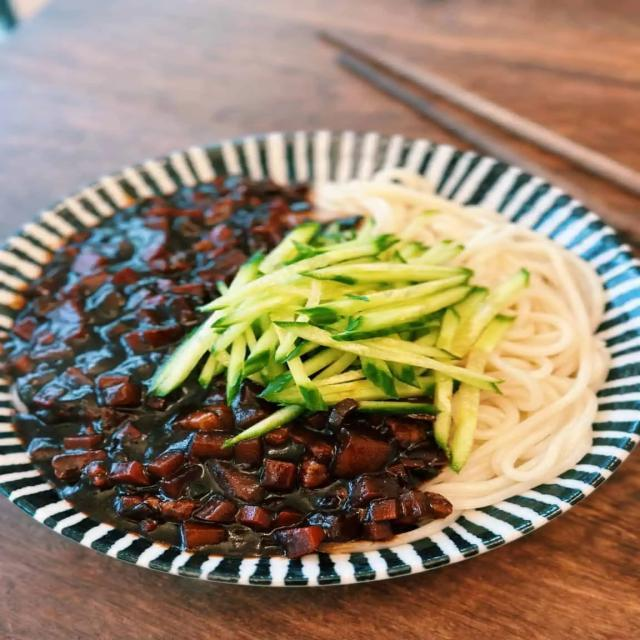cac loai rau cu: (149, 225, 529, 469)
mi jajangmyeon: (447, 317, 593, 506), (330, 175, 570, 269), (498, 263, 580, 453)
mi tuong den Jajangmyeon: (0, 171, 631, 555)
sot tuong den: (90, 408, 450, 545), (11, 293, 188, 505), (63, 189, 259, 296)
